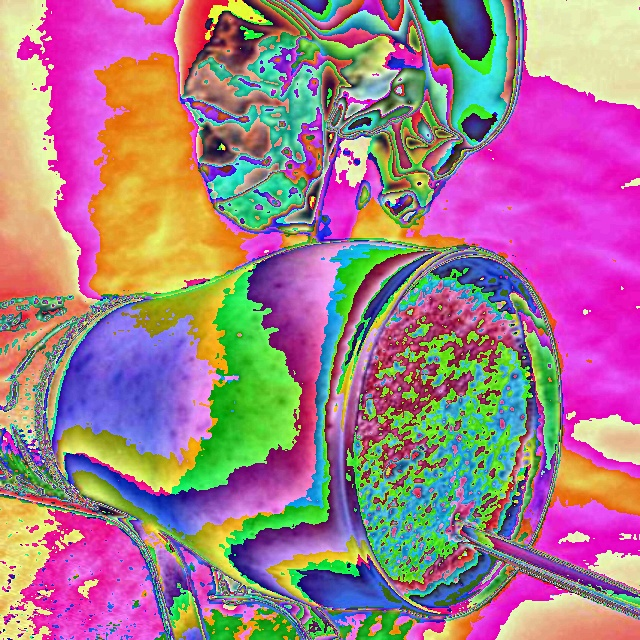background: (48, 239, 535, 611), (250, 0, 522, 227)
